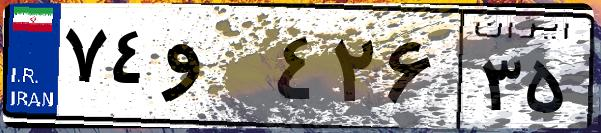2: (330, 28, 385, 110)
3: (475, 38, 525, 113)
4: (270, 28, 330, 110), (110, 28, 158, 98)
5: (525, 38, 570, 115)
6: (385, 28, 445, 110)
7: (57, 26, 110, 100)
و: (158, 20, 270, 120)
